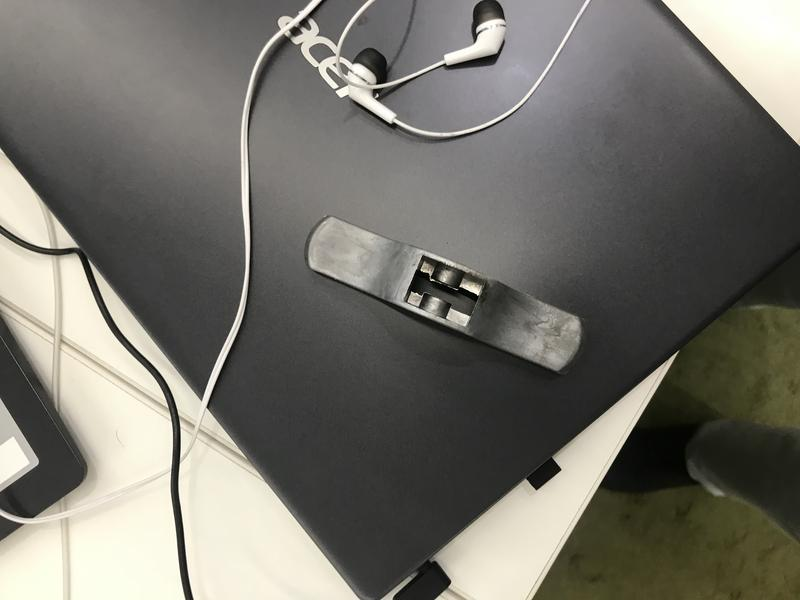zapchast: (292, 202, 599, 403)
